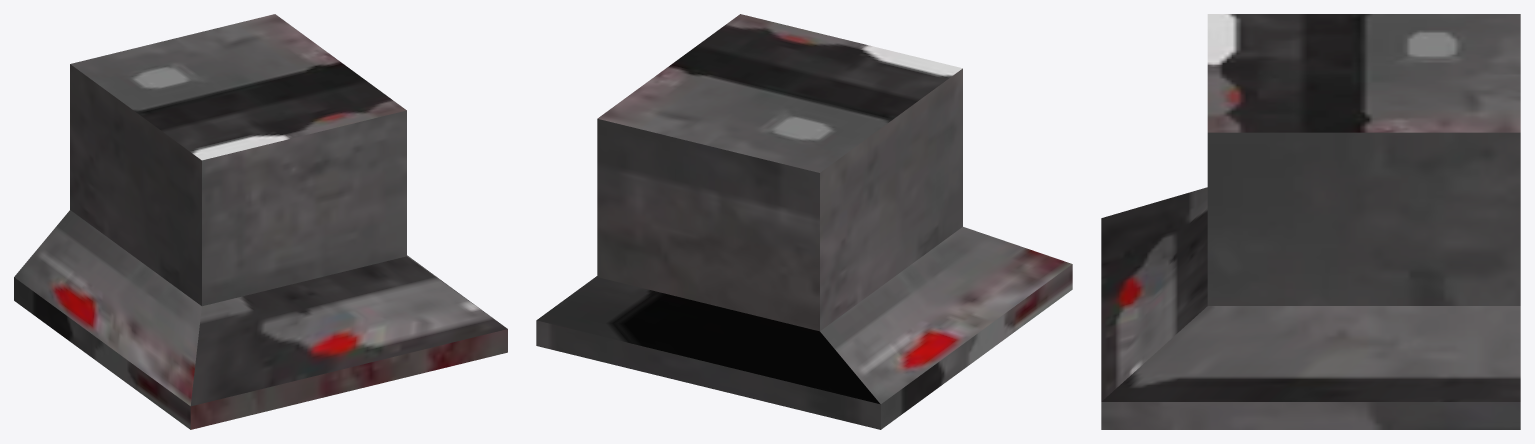
Rendered from extractor-hood.glb.
3 views of the same model, side by side, from view 1: azimuth 30°, elevation 25°; view 2: azimuth 150°, elevation 25°; view 3: azimuth 270°, elevation 25° (orthographic). The views are drawn at different scales.
Visible parts, largest first — view 1: SM_Aspirator_Kitchen_0; view 2: SM_Aspirator_Kitchen_0; view 3: SM_Aspirator_Kitchen_0.
Part boxes in pixels (box(x1,y1,x2,y2)): SM_Aspirator_Kitchen_0: box(14, 14, 507, 429); SM_Aspirator_Kitchen_0: box(536, 14, 1072, 429); SM_Aspirator_Kitchen_0: box(1101, 14, 1520, 429).
Bounding box in the file's own units: 0.8411 × 0.5648 × 0.8111.
Materials: 1 (1 with a texture image).
